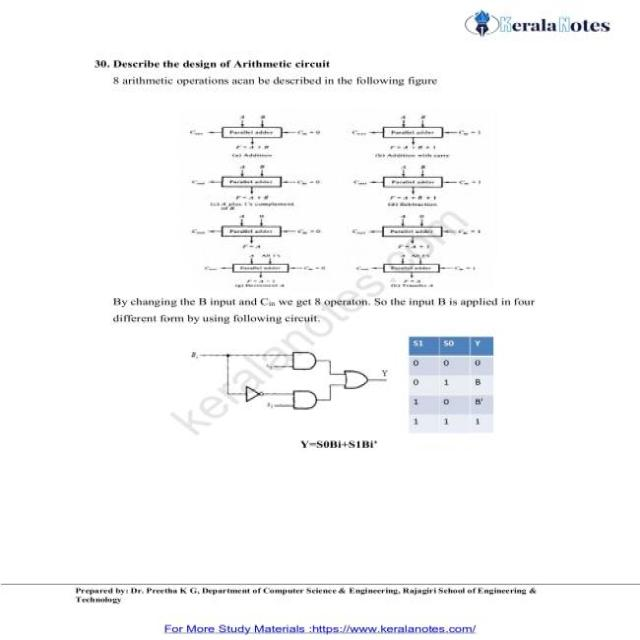Figure Detection - v3 Dataset Version2: (186, 340, 394, 418), (185, 106, 326, 160), (185, 162, 330, 213), (346, 108, 485, 160), (348, 164, 488, 211), (183, 212, 339, 251), (348, 250, 489, 293), (184, 252, 334, 291), (348, 212, 489, 249)
